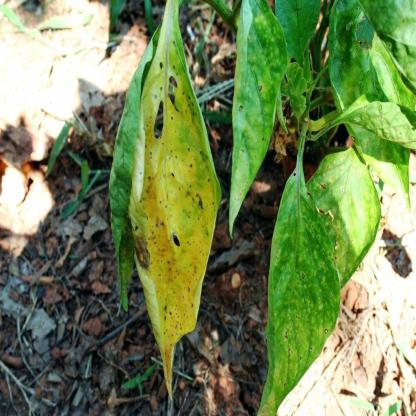bell pepper leaf spot: (131, 17, 225, 415), (249, 160, 341, 415), (223, 2, 289, 242), (104, 43, 145, 325), (340, 85, 416, 157)
